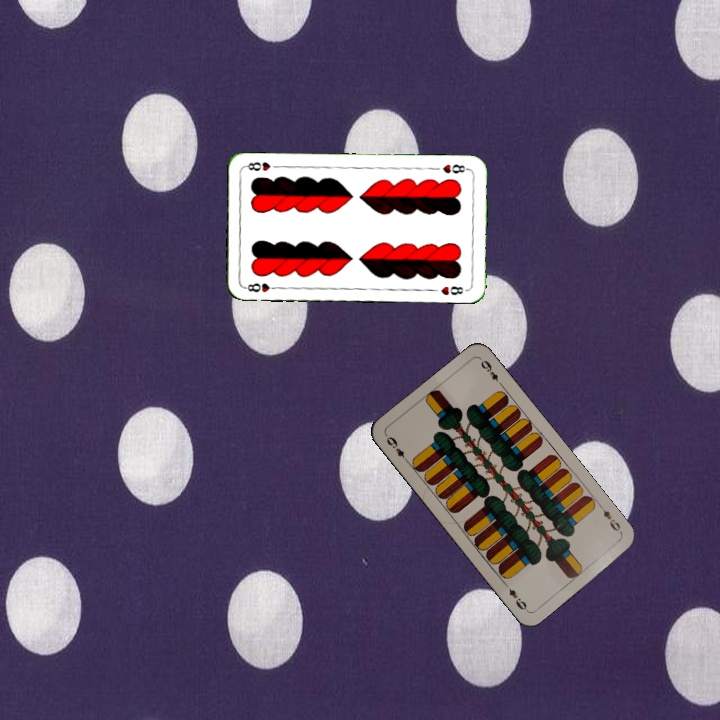E9: (596, 501, 625, 536), (382, 432, 411, 466)
H8: (241, 279, 281, 295), (438, 160, 471, 176)
